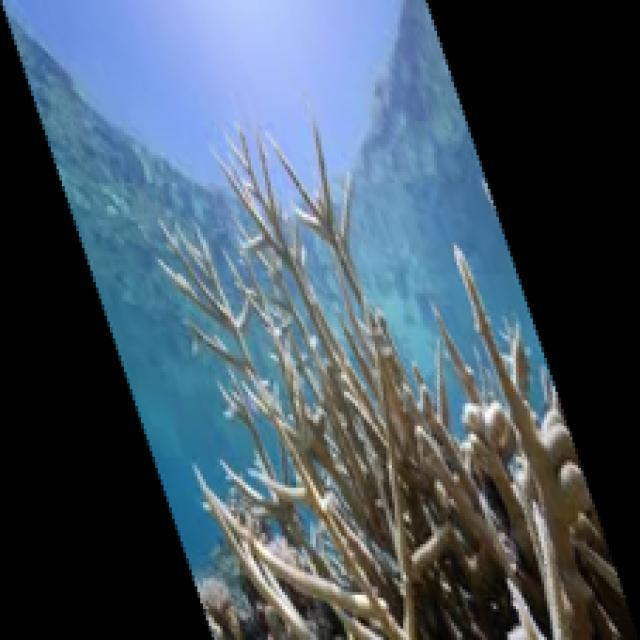Bleached: (195, 252, 606, 640), (164, 132, 354, 325), (192, 578, 240, 640)
